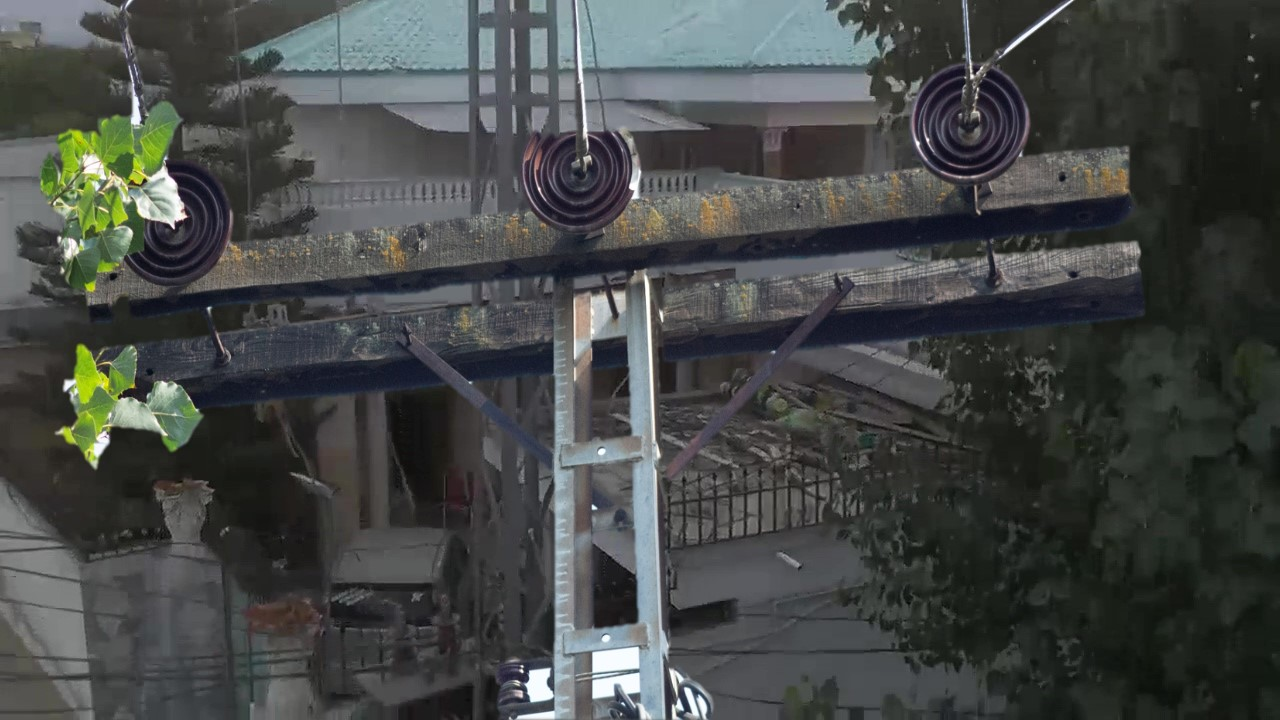defect_disc: (515, 116, 649, 241)
insulator_disc: (907, 59, 1038, 187), (130, 154, 241, 285)
